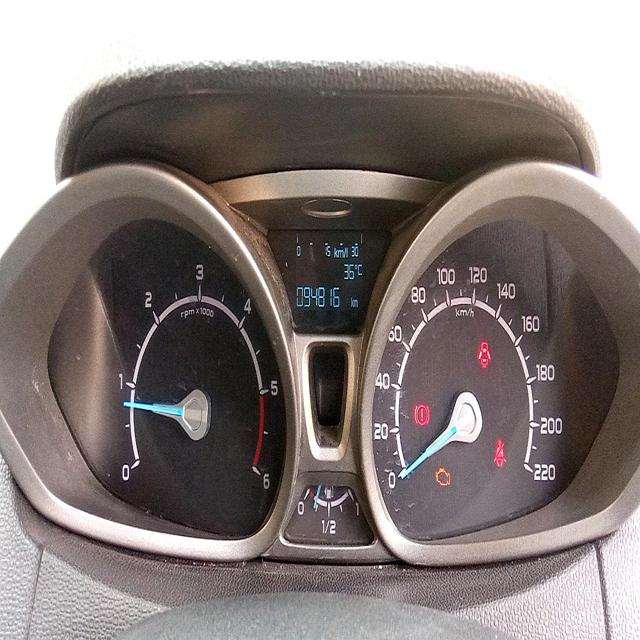odometer: (294, 280, 343, 312)
